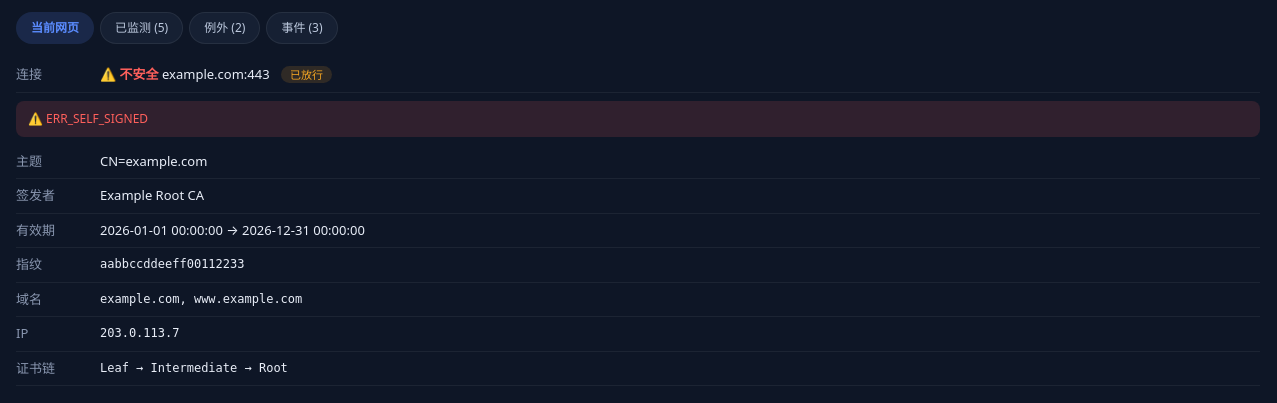
事件页签 › KIND_ZH 映射已知 kind，未知 kind 回退原文
What coordinates should you click on to do the following:
click the button "事件 (3)"
I would click on:
 (302, 28)
Its box is [266,12,338,44].
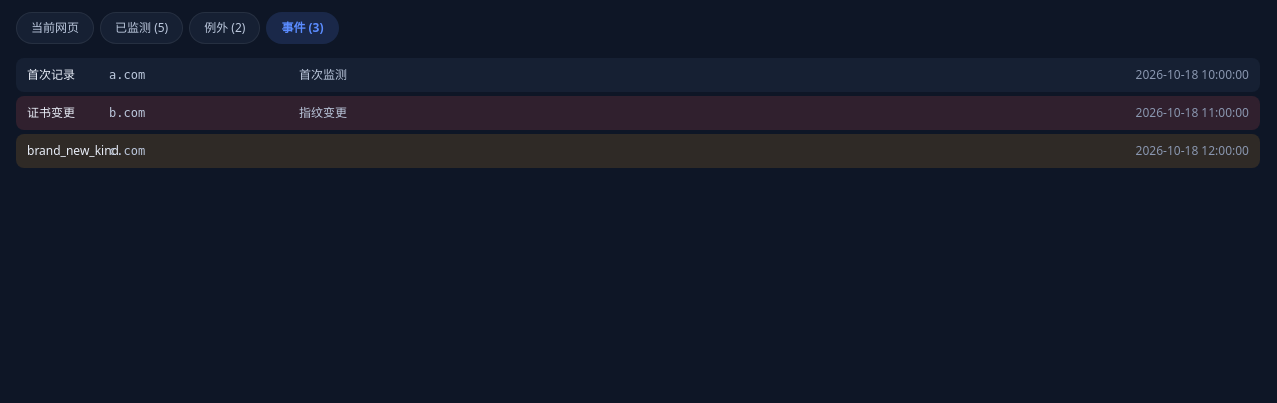
Expected: the elements with class "ev-kind" read "首次记录", "证书变更", "brand_new_kind", in this order, [27,66,75,83]; [27,104,75,121]; [27,142,99,160]
